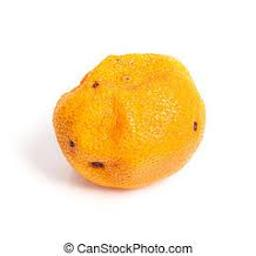Orange Rotten: (47, 42, 216, 196)
